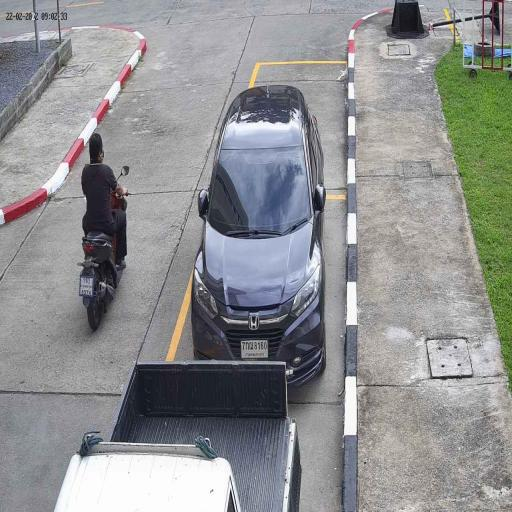car: (191, 87, 327, 382), (61, 358, 303, 512)
motorcycle: (76, 226, 124, 336)
